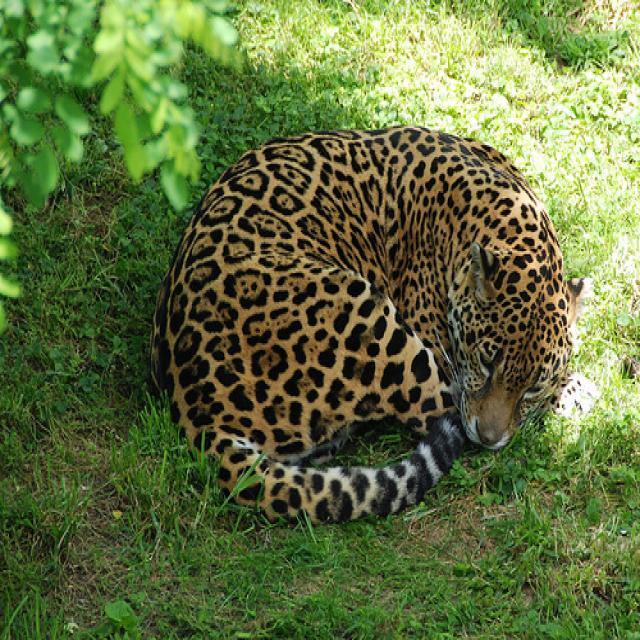Leopard: (143, 114, 593, 529)
